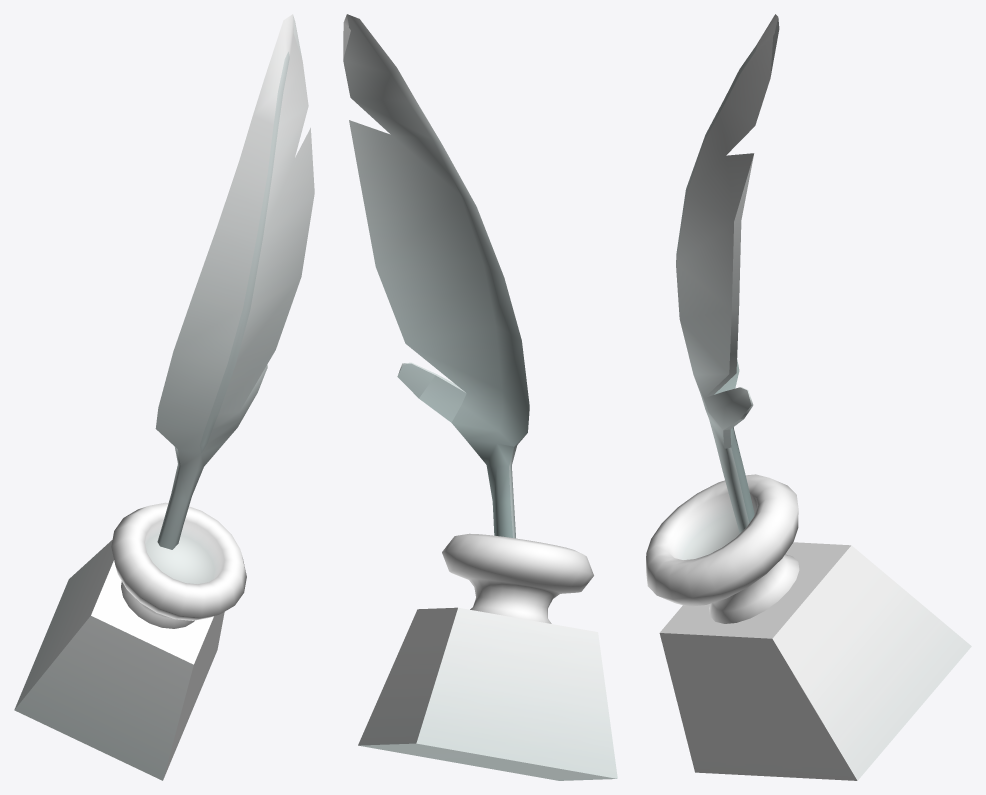
Rendered from Writting.fbx.
3 views of the same model, side by side, from view 1: azimuth 30°, elevation 25°; view 2: azimuth 150°, elevation 25°; view 3: azimuth 270°, elevation 25° (orthographic). The views are drawn at different scales.
Visible parts, largest first — view 1: WrittingMesh; view 2: WrittingMesh; view 3: WrittingMesh.
Part boxes in pixels (x1,y1,x2,y2): WrittingMesh: (14, 14, 314, 780); WrittingMesh: (343, 14, 617, 780); WrittingMesh: (646, 14, 971, 780).
Size of the model in its own units: 5.74 by 14.05 by 4.86.
